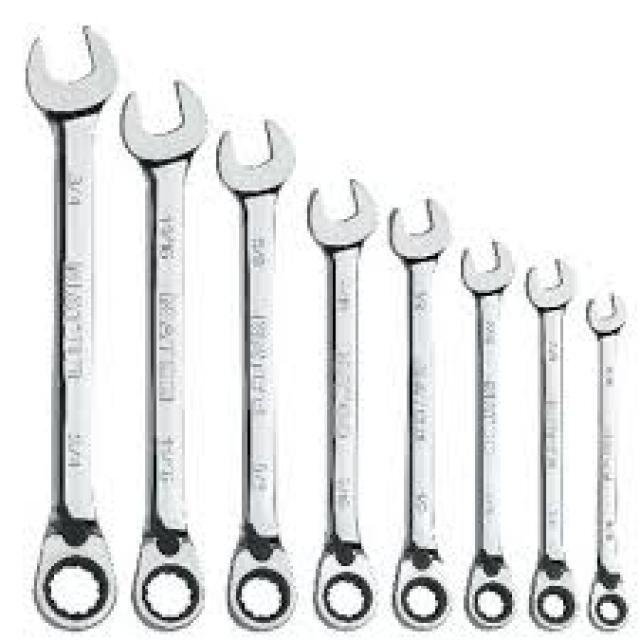wrench: (21, 20, 122, 636), (119, 74, 211, 634), (216, 113, 301, 632), (298, 173, 384, 632), (386, 194, 456, 634), (454, 235, 520, 631), (522, 253, 580, 632), (581, 284, 634, 638)
